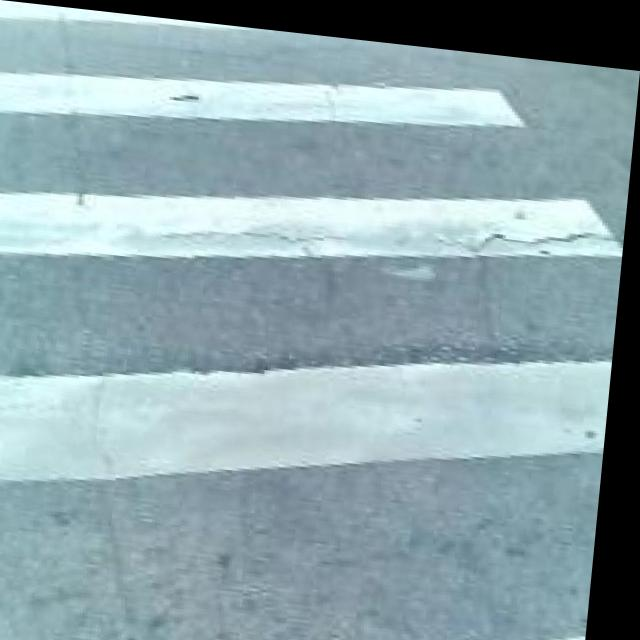zebra: (0, 54, 633, 640)
